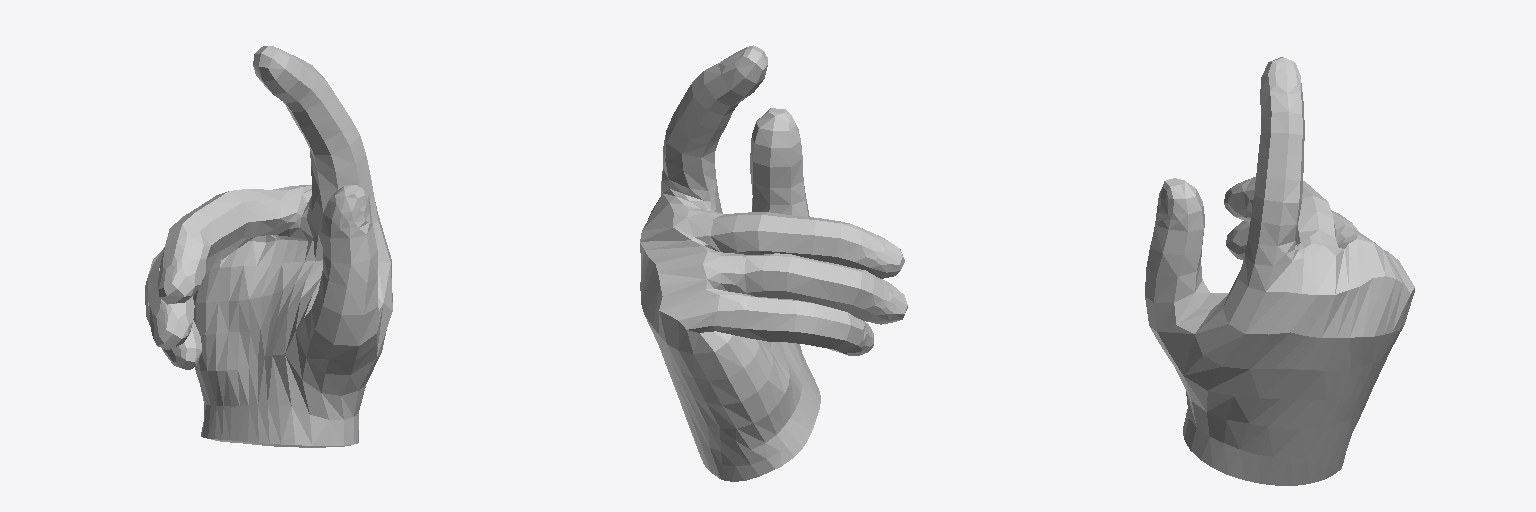
Rendered from hand.obj.
3 views of the same model, side by side, from view 1: azimuth 30°, elevation 25°; view 2: azimuth 150°, elevation 25°; view 3: azimuth 270°, elevation 25° (orthographic).
Parts seen in each view (by area): view 1: hand; view 2: hand; view 3: hand.
Boxes of the visible parts, x1=… form: hand: x1=145, y1=46, x2=392, y2=447; hand: x1=640, y1=45, x2=907, y2=481; hand: x1=1145, y1=57, x2=1414, y2=485.
Size of the model in its own units: 1.03 by 1.68 by 1.01.